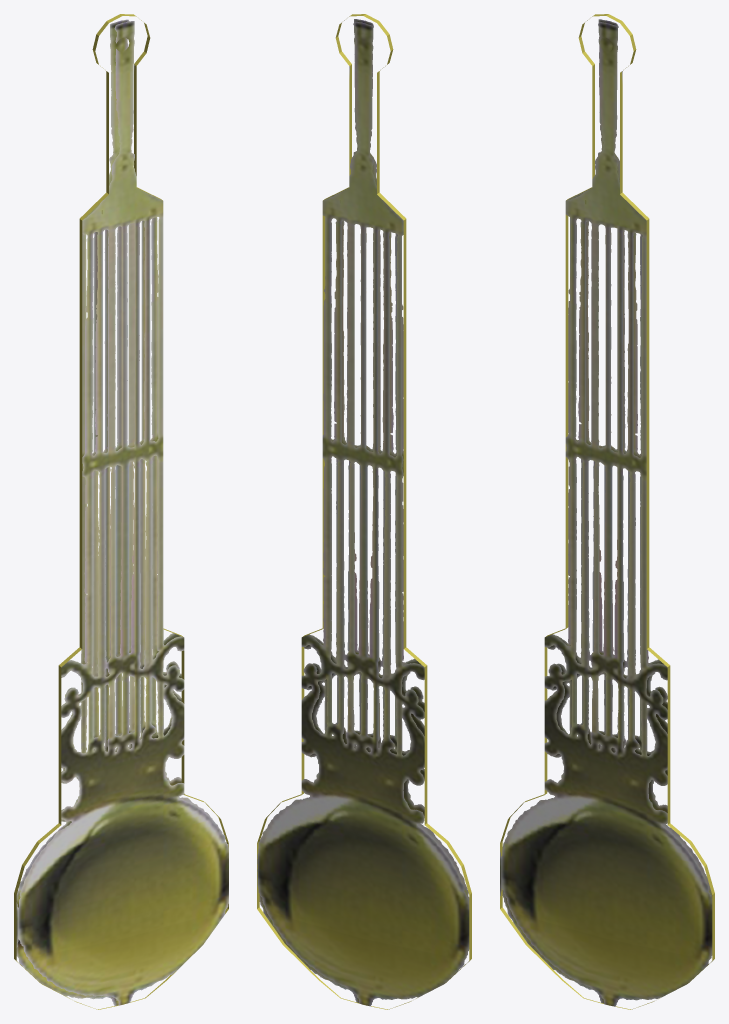
Rendered from pendulum.obj.
3 views of the same model, side by side, from view 1: azimuth 30°, elevation 25°; view 2: azimuth 150°, elevation 25°; view 3: azimuth 330°, elevation 25° (orthographic).
Visible parts, largest first — view 1: Circle.001_Circle.001; view 2: Circle.001_Circle.001; view 3: Circle.001_Circle.001.
Boxes of the visible parts, x1,y1,x2,y2 form: Circle.001_Circle.001: (14,14,228,1009); Circle.001_Circle.001: (257,14,471,1009); Circle.001_Circle.001: (500,14,714,1009).
Size of the model in its own units: 2.86 by 12.74 by 0.0616.
1 material, 1 textured.
